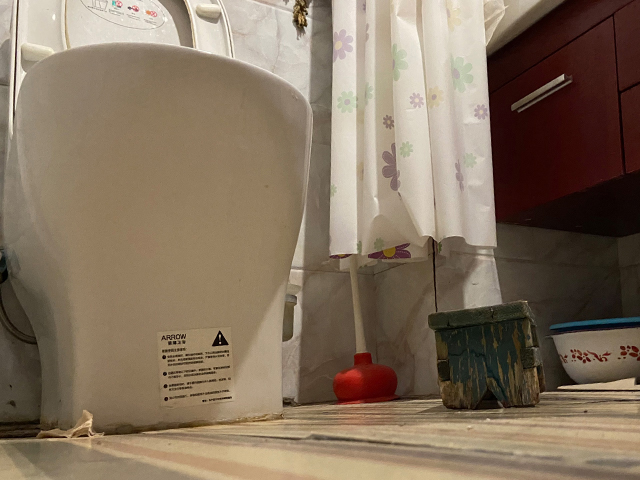closestool: (1, 1, 316, 434)
curtain: (329, 1, 501, 262)
stool: (427, 298, 548, 409)
